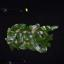leaf: (41, 32, 55, 41), (25, 32, 37, 42), (33, 42, 43, 54), (6, 31, 16, 41), (10, 24, 26, 30), (16, 30, 24, 42), (7, 42, 18, 50), (45, 26, 59, 32), (16, 42, 28, 49), (37, 25, 50, 31), (26, 24, 36, 31), (35, 41, 52, 45), (42, 44, 48, 52), (27, 42, 33, 48), (35, 37, 44, 40)
